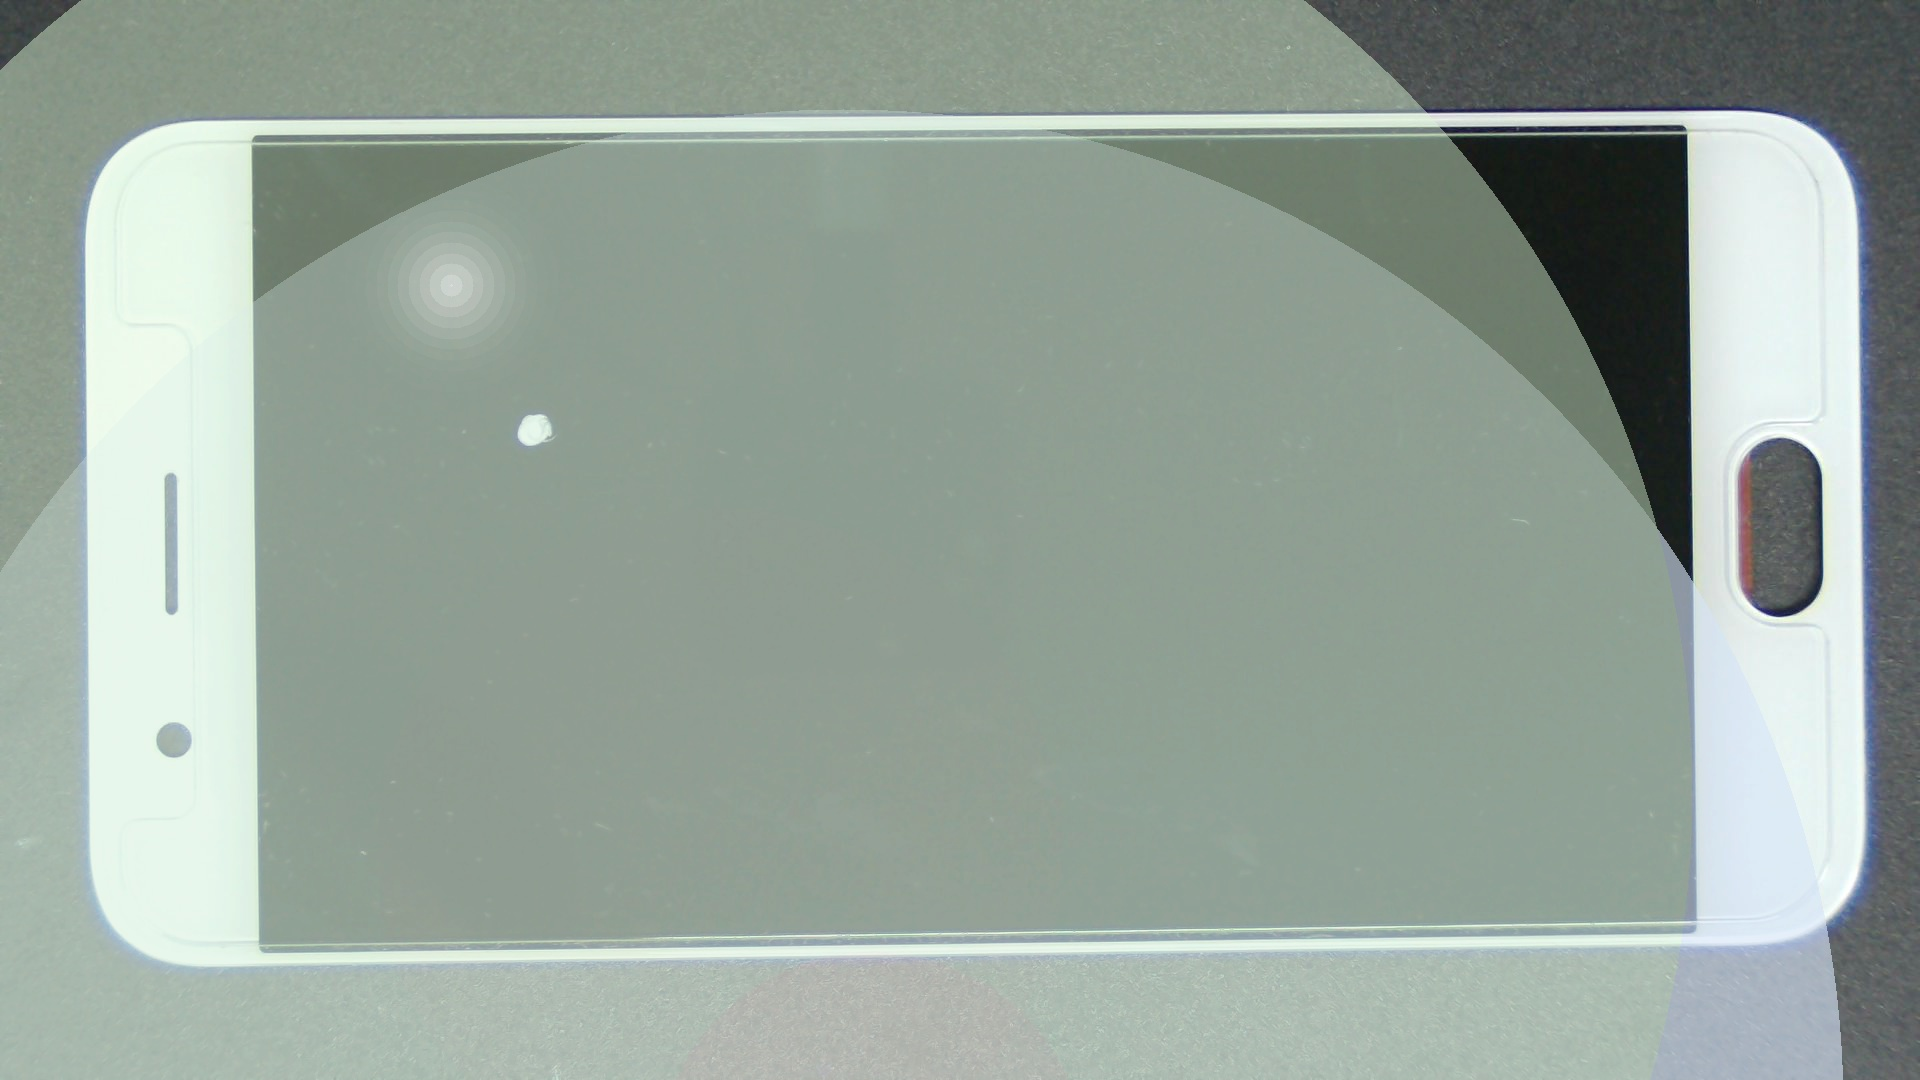oil: (270, 206, 808, 618)
